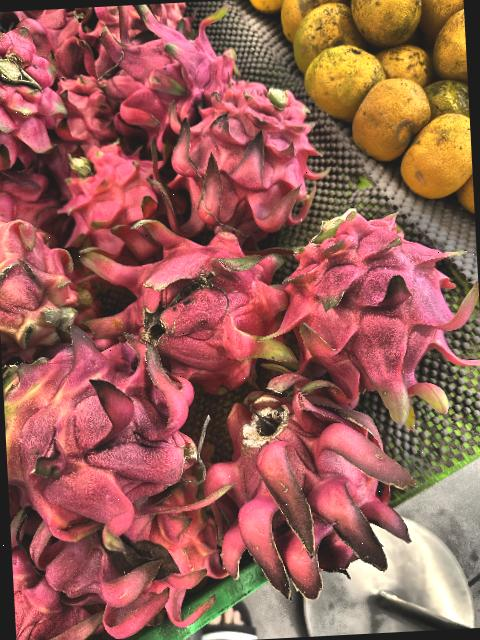buah-naga-matang: (190, 370, 420, 594), (276, 193, 480, 414), (1, 346, 212, 520), (21, 486, 230, 636), (85, 226, 283, 384), (163, 67, 338, 241), (99, 2, 236, 128), (56, 140, 178, 258), (0, 206, 77, 356), (0, 13, 66, 176), (47, 70, 117, 152), (0, 161, 63, 235), (34, 8, 104, 74)
